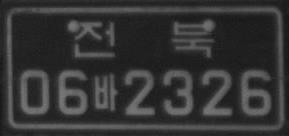0: (19, 68, 50, 116)
2: (124, 68, 156, 115), (201, 69, 232, 116)
3: (162, 69, 193, 116)
6: (239, 68, 272, 116), (57, 68, 88, 115)
바: (93, 73, 117, 110)
전북_D: (74, 20, 214, 58)
